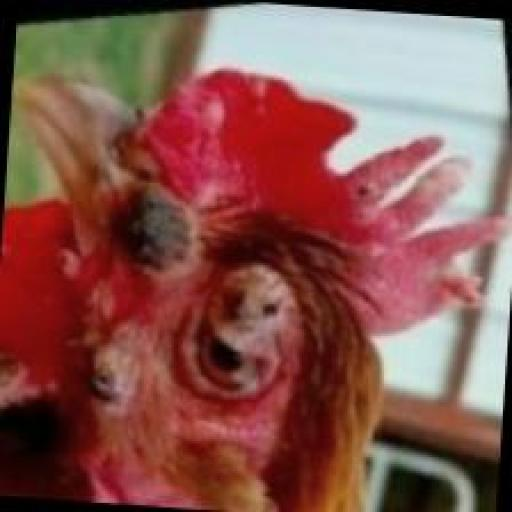disease: (356, 98, 506, 305), (26, 239, 164, 462), (96, 62, 230, 280), (198, 218, 330, 388)
